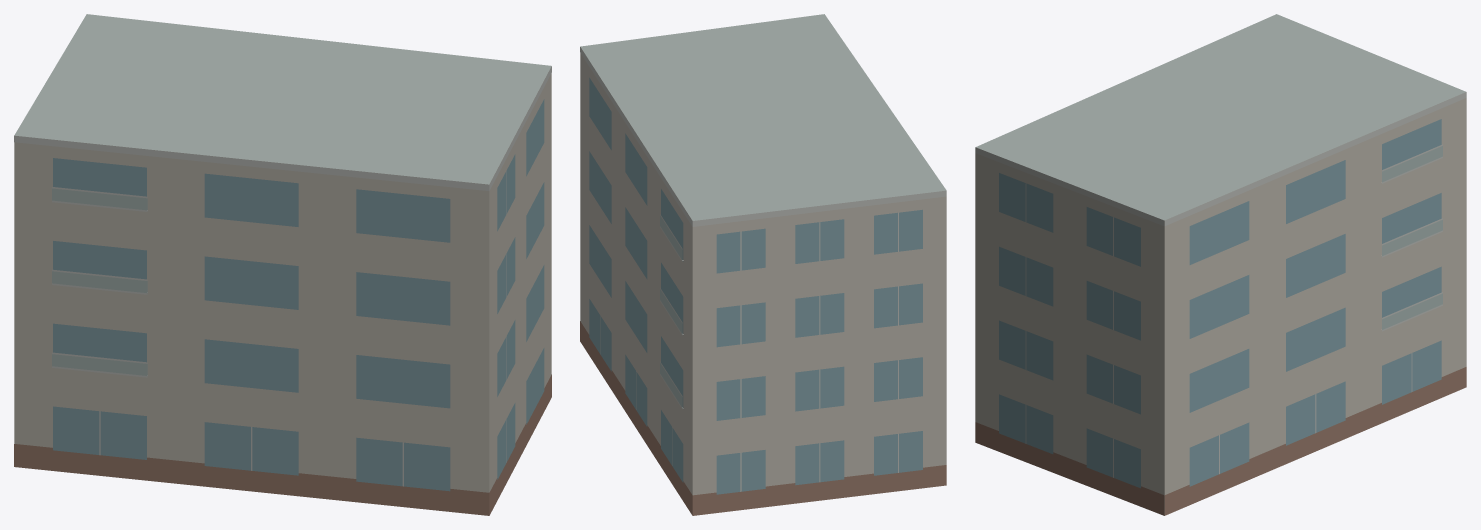
The model's file is survey-upis-32651590.glb.
3 views of the same model, side by side, from view 1: azimuth 30°, elevation 25°; view 2: azimuth 150°, elevation 25°; view 3: azimuth 270°, elevation 25° (orthographic). The views are drawn at different scales.
Visible parts, largest first — view 1: survey-upis-32651590.tmp; view 2: survey-upis-32651590.tmp; view 3: survey-upis-32651590.tmp.
Boxes of the visible parts, <box> form: survey-upis-32651590.tmp: <box>14,14,551,515</box>; survey-upis-32651590.tmp: <box>580,14,946,515</box>; survey-upis-32651590.tmp: <box>975,14,1466,515</box>.
Size of the model in its own units: 18.3 by 12.2 by 18.39.
